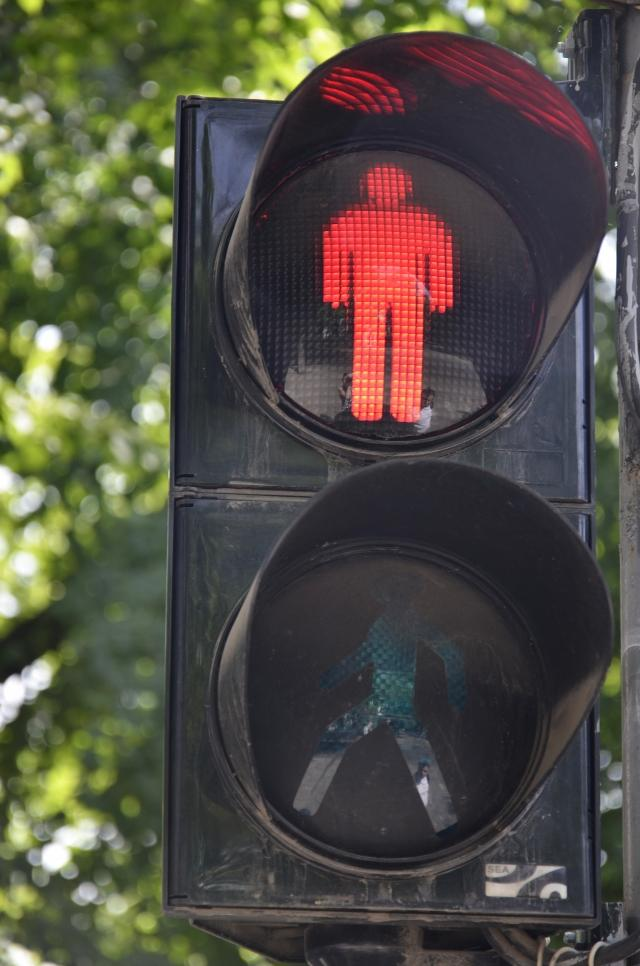red: (130, 25, 630, 950)
